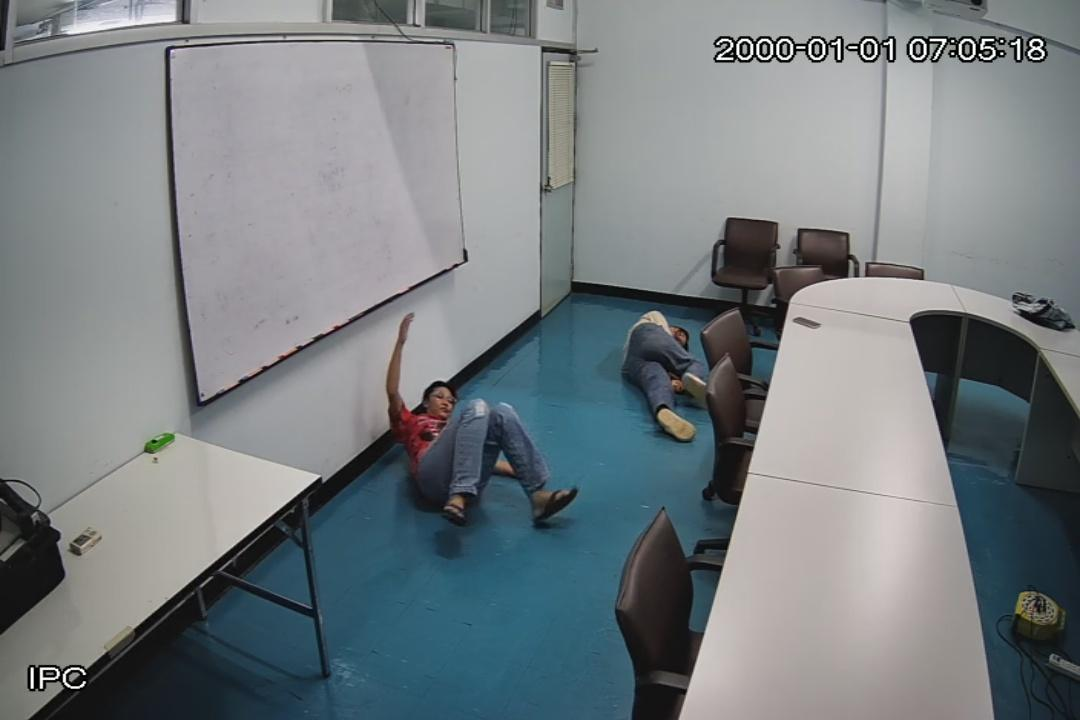fall: (384, 315, 577, 530), (622, 307, 710, 440)
